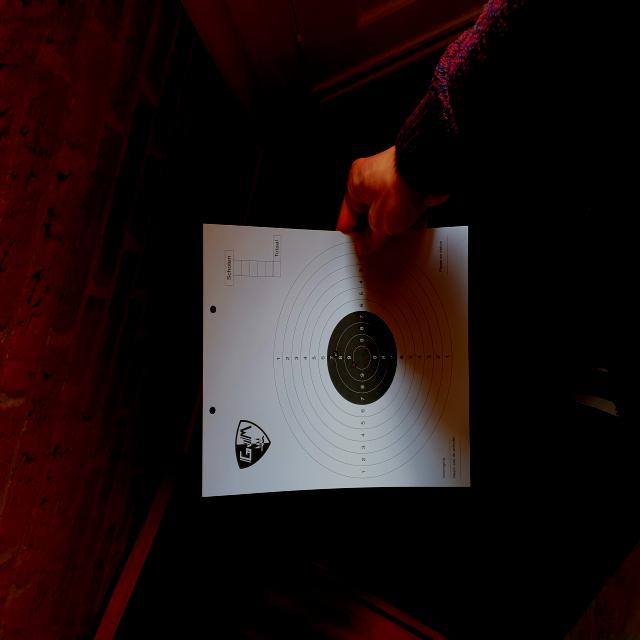10: (363, 343, 369, 350), (351, 362, 357, 369)
8: (333, 351, 338, 358)
Target: (272, 242, 452, 480)
black_contour: (328, 311, 397, 404)
